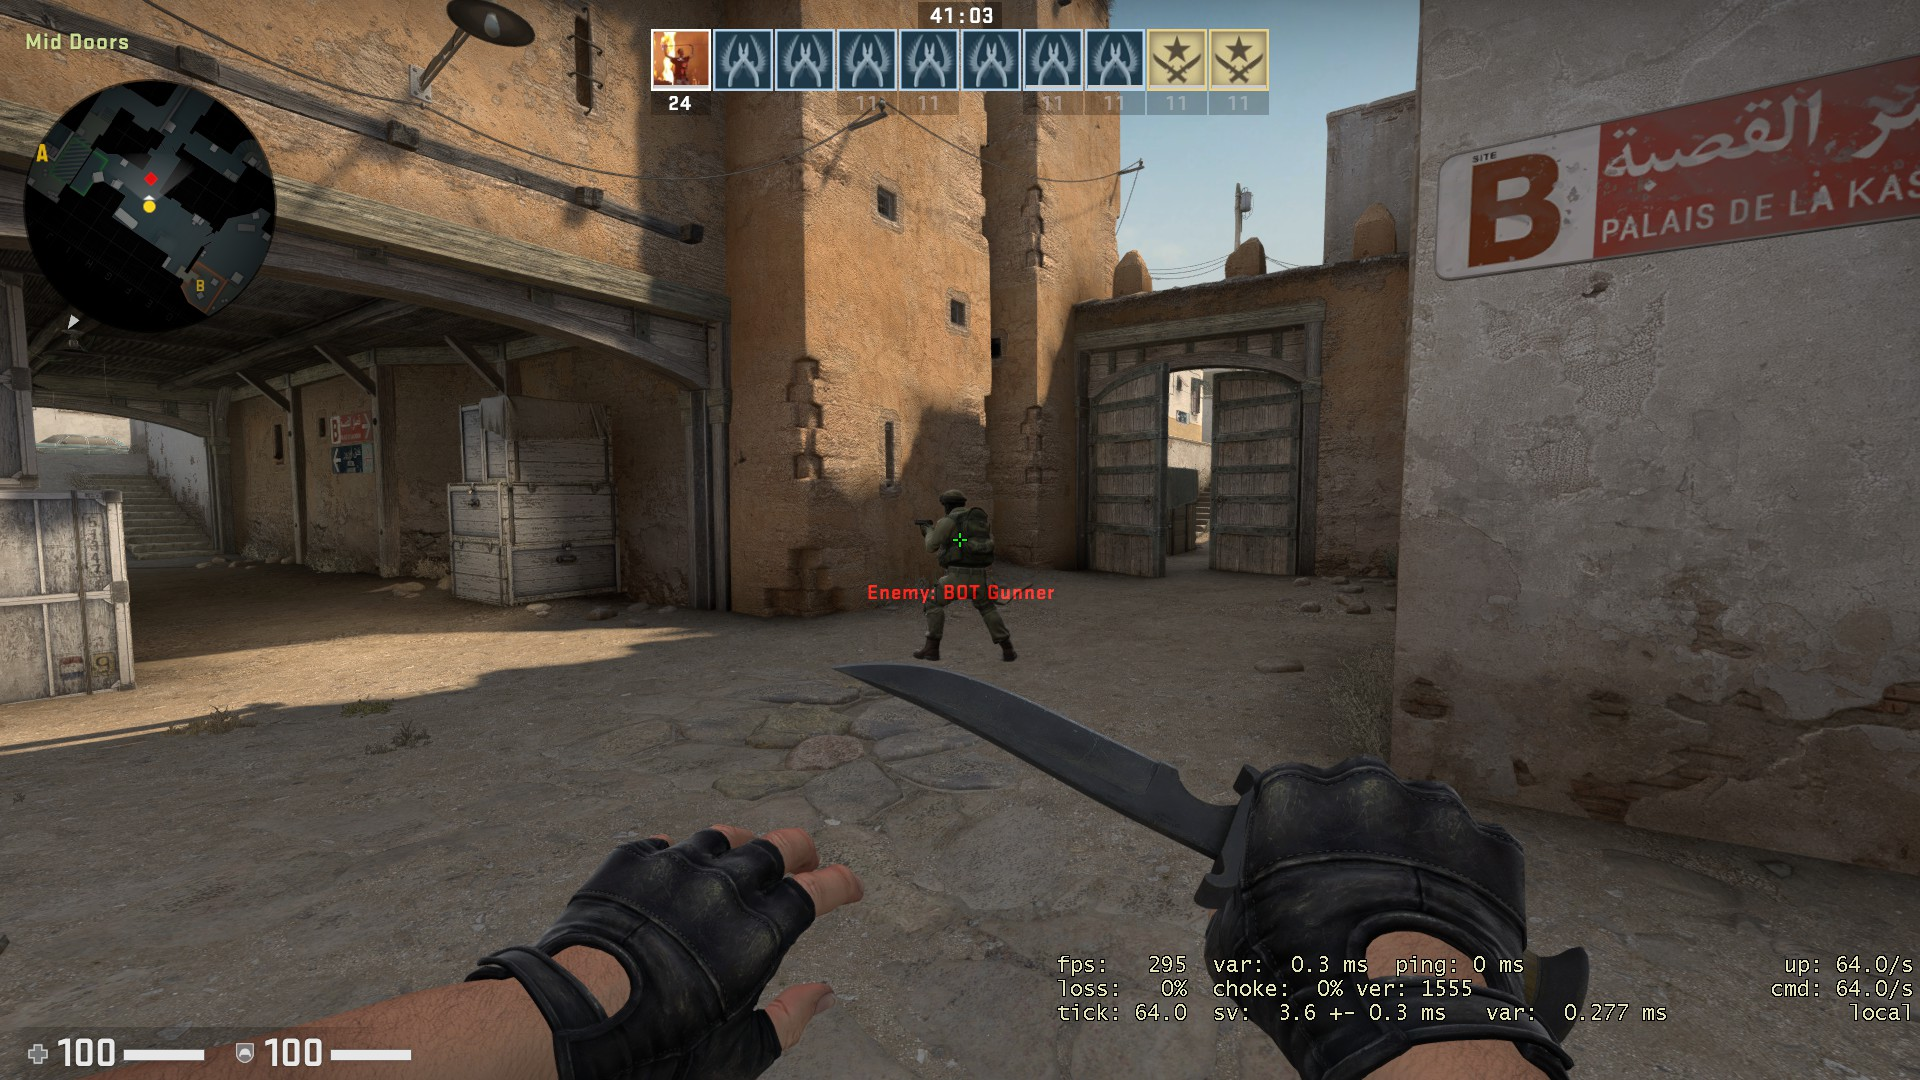player: (909, 487, 1022, 667)
